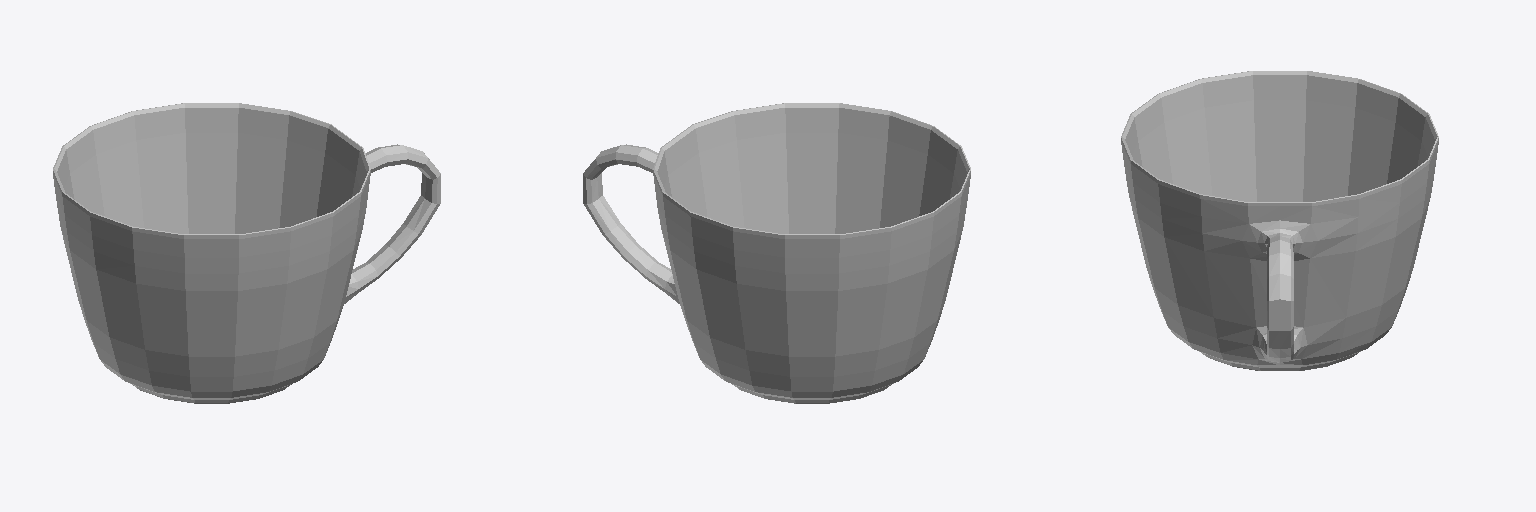
File: coffeemug_02.obj
3 renders of one model, left to right at view 1: azimuth 30°, elevation 25°; view 2: azimuth 150°, elevation 25°; view 3: azimuth 270°, elevation 25°, orthographic.
Visible parts, largest first — view 1: SmallCoffeeMugLP_Cube.011; view 2: SmallCoffeeMugLP_Cube.011; view 3: SmallCoffeeMugLP_Cube.011.
Boxes of the visible parts, box(x1,y1,x2,y2) form: SmallCoffeeMugLP_Cube.011: box(53, 103, 440, 403); SmallCoffeeMugLP_Cube.011: box(583, 103, 970, 403); SmallCoffeeMugLP_Cube.011: box(1121, 71, 1438, 370).
Size of the model in its own units: 0.1146 by 0.0596 by 0.0878.